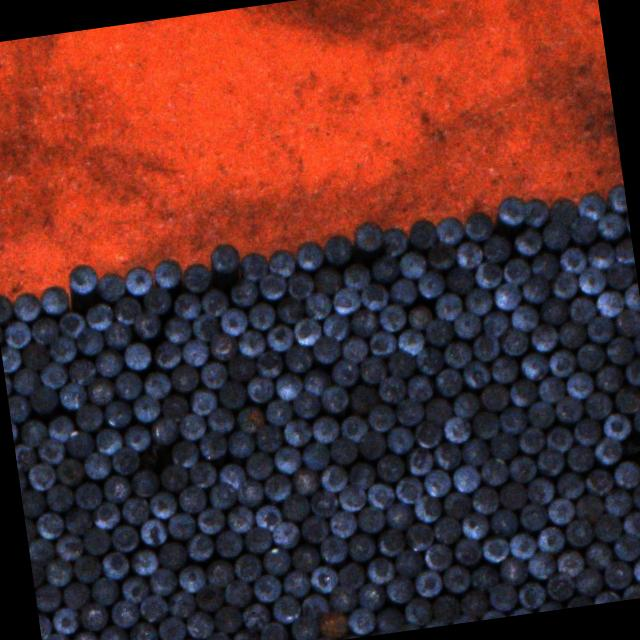tool: (66, 262, 100, 296), (494, 193, 528, 227), (548, 194, 580, 229), (215, 378, 248, 411), (122, 264, 154, 298), (208, 241, 240, 275), (575, 189, 607, 223), (37, 284, 70, 316), (180, 261, 212, 294), (351, 219, 383, 252), (406, 217, 438, 250), (556, 318, 588, 351), (462, 209, 493, 243), (472, 258, 504, 290), (27, 383, 59, 415), (442, 338, 474, 370), (53, 456, 85, 488), (373, 452, 405, 484), (156, 540, 188, 572), (270, 592, 302, 624), (458, 588, 490, 620), (238, 250, 269, 283), (273, 369, 304, 402), (346, 383, 379, 414), (152, 256, 182, 290), (293, 240, 324, 272), (434, 214, 465, 246), (520, 196, 551, 228), (198, 287, 230, 318), (397, 248, 428, 280), (540, 220, 571, 252), (444, 265, 476, 296), (93, 347, 125, 378), (112, 369, 143, 401), (283, 342, 314, 374), (566, 294, 597, 326), (300, 367, 332, 398), (413, 344, 445, 375), (584, 312, 615, 344), (517, 351, 549, 382), (546, 348, 578, 379), (574, 341, 606, 372), (108, 598, 140, 629), (525, 548, 556, 580), (544, 570, 575, 602), (322, 233, 352, 266), (29, 315, 60, 346), (111, 295, 142, 326), (481, 233, 512, 264), (218, 306, 249, 337), (38, 359, 69, 390), (66, 356, 97, 387), (576, 265, 607, 296), (168, 362, 199, 393), (451, 308, 482, 339), (63, 428, 94, 459), (604, 334, 635, 365), (110, 444, 141, 475), (479, 382, 510, 413), (600, 411, 631, 442), (451, 463, 482, 494), (592, 435, 623, 466), (327, 582, 358, 613), (572, 567, 603, 598), (12, 290, 42, 322), (18, 341, 50, 371), (388, 276, 418, 308), (530, 250, 560, 282), (292, 316, 322, 348), (310, 334, 342, 364), (537, 296, 569, 326), (100, 398, 132, 428), (34, 436, 66, 466), (282, 418, 314, 448), (470, 484, 500, 516), (222, 576, 252, 608), (252, 572, 282, 604), (308, 564, 340, 594), (240, 601, 270, 633), (316, 609, 348, 639), (402, 596, 432, 628), (379, 225, 408, 258), (95, 272, 126, 302), (266, 248, 296, 279), (1, 320, 32, 350), (141, 285, 172, 315), (568, 213, 598, 244), (595, 210, 626, 240), (584, 240, 615, 270), (492, 280, 522, 311), (520, 273, 550, 304), (57, 380, 88, 410), (142, 369, 172, 400), (73, 402, 104, 432), (244, 374, 275, 404), (386, 348, 416, 379), (498, 326, 528, 357), (291, 388, 321, 419), (434, 367, 464, 398), (461, 358, 491, 389), (26, 461, 56, 492), (310, 414, 340, 445), (508, 378, 539, 408), (356, 430, 386, 461), (280, 492, 310, 523), (185, 531, 215, 562), (412, 493, 442, 524), (441, 490, 472, 520), (583, 468, 614, 498), (317, 534, 348, 564), (194, 582, 225, 612), (393, 548, 424, 578), (355, 580, 386, 610), (57, 310, 87, 340), (84, 302, 114, 332), (312, 266, 342, 296), (341, 262, 371, 292), (370, 254, 400, 284), (426, 240, 456, 270), (454, 239, 484, 269), (512, 226, 542, 256), (74, 326, 104, 356), (162, 316, 192, 346), (190, 312, 220, 342), (302, 290, 332, 320), (330, 286, 360, 316), (360, 282, 390, 312), (416, 269, 446, 299), (502, 255, 532, 285), (558, 246, 588, 276), (11, 366, 41, 396), (180, 337, 210, 367), (208, 331, 238, 361), (236, 328, 266, 358), (264, 322, 294, 352), (321, 312, 351, 342), (348, 308, 378, 338), (377, 302, 407, 332), (434, 292, 464, 322), (463, 286, 493, 316), (84, 376, 114, 406), (198, 360, 228, 390), (226, 354, 256, 384), (253, 349, 283, 379), (368, 328, 398, 358), (396, 326, 426, 356), (424, 317, 454, 347), (509, 303, 539, 333), (595, 288, 625, 318), (18, 418, 48, 448), (45, 414, 75, 444), (188, 386, 218, 416), (330, 357, 360, 387), (358, 354, 388, 384), (472, 332, 502, 362), (529, 322, 559, 352), (120, 422, 150, 452), (177, 412, 207, 442), (149, 416, 179, 446), (234, 404, 264, 434), (318, 384, 348, 414), (377, 374, 407, 404), (488, 354, 518, 384), (82, 450, 112, 480), (198, 430, 228, 460), (339, 413, 369, 443), (394, 398, 424, 428), (536, 374, 566, 404), (564, 370, 594, 400), (101, 474, 131, 504), (272, 445, 302, 475), (244, 450, 274, 480), (442, 414, 472, 444), (470, 410, 500, 440), (498, 406, 528, 436), (554, 394, 584, 424), (582, 390, 612, 420), (34, 511, 64, 541), (90, 500, 120, 530), (62, 506, 92, 536), (207, 480, 237, 510), (318, 464, 348, 494), (488, 432, 518, 462), (225, 504, 255, 534), (308, 488, 338, 518), (422, 468, 452, 498), (478, 456, 508, 486), (507, 454, 537, 484), (535, 446, 565, 476), (44, 558, 74, 588), (100, 550, 130, 580), (242, 524, 272, 554), (270, 520, 300, 550), (328, 509, 358, 539), (498, 480, 528, 510), (524, 476, 554, 506), (88, 576, 118, 606), (148, 566, 178, 596), (176, 564, 206, 594), (205, 559, 235, 589), (232, 552, 262, 582), (262, 546, 292, 576), (289, 543, 319, 573), (404, 522, 434, 552), (432, 515, 462, 545), (545, 496, 575, 526), (574, 494, 604, 524), (602, 488, 632, 518), (50, 606, 80, 636), (78, 601, 108, 631), (138, 594, 168, 624), (166, 590, 196, 620), (281, 568, 311, 598), (422, 542, 452, 572), (535, 524, 565, 554), (564, 518, 594, 548), (592, 512, 622, 542), (184, 610, 214, 640), (212, 604, 242, 634), (384, 574, 414, 604), (412, 568, 442, 598), (498, 556, 528, 586), (555, 549, 585, 579), (430, 594, 460, 624), (488, 582, 518, 612), (516, 580, 546, 610), (602, 560, 632, 590), (160, 392, 189, 423), (611, 459, 640, 490), (172, 292, 202, 321), (122, 341, 151, 371), (152, 340, 182, 369), (550, 270, 579, 300), (604, 260, 633, 290), (339, 334, 368, 364), (480, 309, 510, 338), (131, 392, 160, 422), (93, 426, 123, 455), (405, 373, 435, 402), (226, 428, 255, 458), (366, 403, 396, 432), (424, 397, 454, 426), (452, 390, 481, 420), (44, 483, 74, 512), (301, 442, 330, 472), (328, 436, 357, 466), (119, 496, 148, 526), (177, 484, 206, 514), (235, 478, 264, 508), (262, 473, 292, 502), (432, 441, 462, 470), (167, 511, 197, 540), (337, 484, 367, 513), (365, 482, 395, 511), (384, 501, 413, 531), (554, 471, 584, 500), (346, 532, 375, 562), (375, 528, 405, 557), (489, 508, 518, 538), (442, 564, 471, 594), (346, 607, 376, 636), (612, 531, 640, 562), (258, 272, 287, 301), (47, 335, 76, 364), (73, 482, 102, 511), (217, 462, 246, 491), (517, 426, 546, 455), (253, 503, 282, 532), (566, 443, 595, 472), (72, 554, 101, 583), (130, 548, 159, 577), (519, 502, 548, 531), (299, 593, 328, 622), (230, 278, 258, 308), (286, 270, 314, 300), (103, 320, 131, 350), (206, 406, 234, 436), (170, 441, 200, 469), (254, 424, 282, 454), (386, 425, 414, 455), (414, 418, 442, 448), (612, 385, 640, 415), (148, 490, 176, 520), (138, 516, 166, 546), (214, 528, 242, 558), (34, 582, 62, 612), (365, 556, 395, 584), (452, 538, 482, 566), (480, 536, 510, 564), (507, 532, 537, 560), (373, 608, 403, 636), (132, 310, 160, 339), (247, 301, 275, 330), (276, 295, 304, 324), (594, 366, 623, 394), (160, 463, 188, 492), (187, 461, 216, 489), (527, 399, 555, 428), (290, 468, 318, 497), (572, 418, 601, 446), (82, 526, 110, 555), (110, 524, 138, 553), (196, 506, 225, 534), (356, 505, 384, 534), (61, 580, 90, 608), (459, 512, 488, 540), (613, 307, 640, 337), (461, 438, 488, 468), (54, 534, 84, 561), (289, 614, 320, 640), (264, 398, 292, 426), (131, 470, 159, 498), (545, 426, 573, 454), (394, 476, 422, 504), (300, 516, 328, 544), (120, 576, 148, 604), (336, 562, 364, 590), (583, 542, 611, 570), (406, 447, 433, 476), (20, 488, 46, 518), (156, 614, 186, 640), (347, 462, 374, 490), (471, 564, 498, 592), (28, 537, 54, 566), (604, 183, 628, 214), (406, 304, 433, 330), (14, 442, 37, 471), (8, 393, 30, 423), (613, 238, 635, 264), (621, 282, 640, 312), (127, 621, 157, 640), (1, 344, 21, 372), (260, 620, 288, 640), (621, 509, 640, 538), (97, 624, 128, 640), (591, 588, 620, 605), (624, 358, 640, 386), (0, 293, 14, 323), (619, 582, 640, 601), (38, 613, 52, 640), (31, 560, 45, 586), (231, 629, 260, 640), (630, 405, 640, 435), (630, 481, 640, 511), (71, 630, 100, 640), (41, 631, 71, 640), (631, 554, 640, 584), (631, 329, 640, 358), (203, 631, 231, 640)
tool_b: (136, 442, 166, 472), (618, 431, 640, 465)
